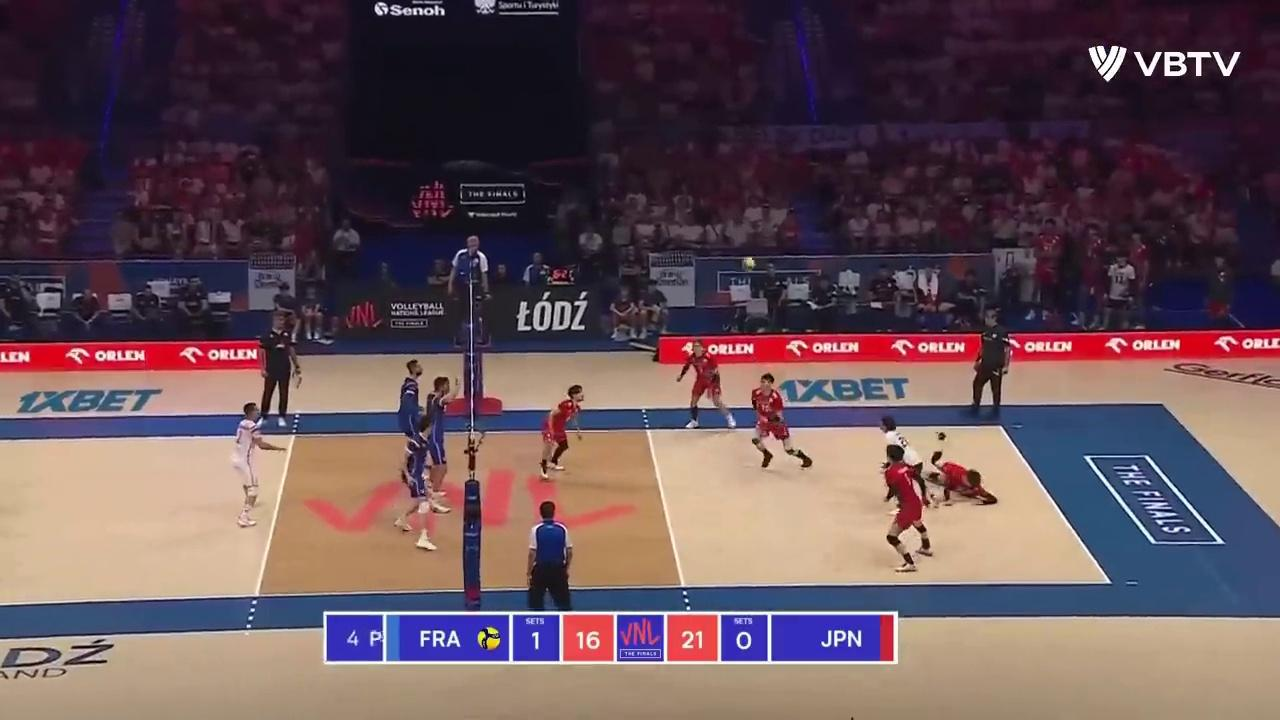ball: (741, 256, 755, 273)
